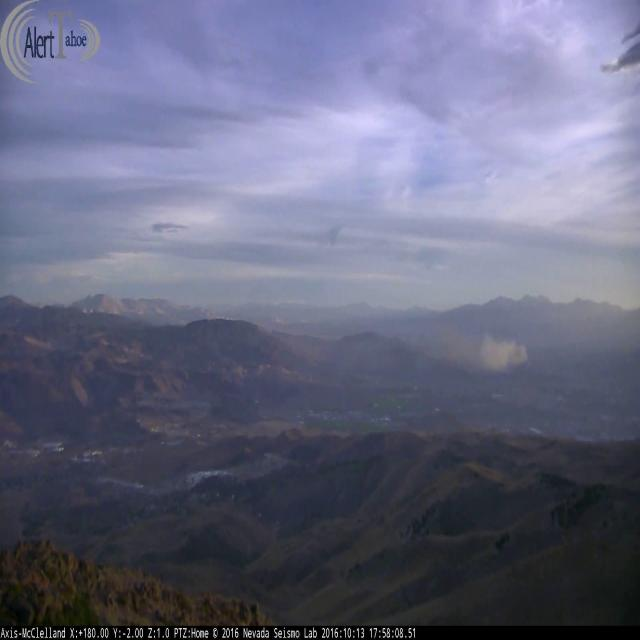smoke: (423, 318, 528, 369)
